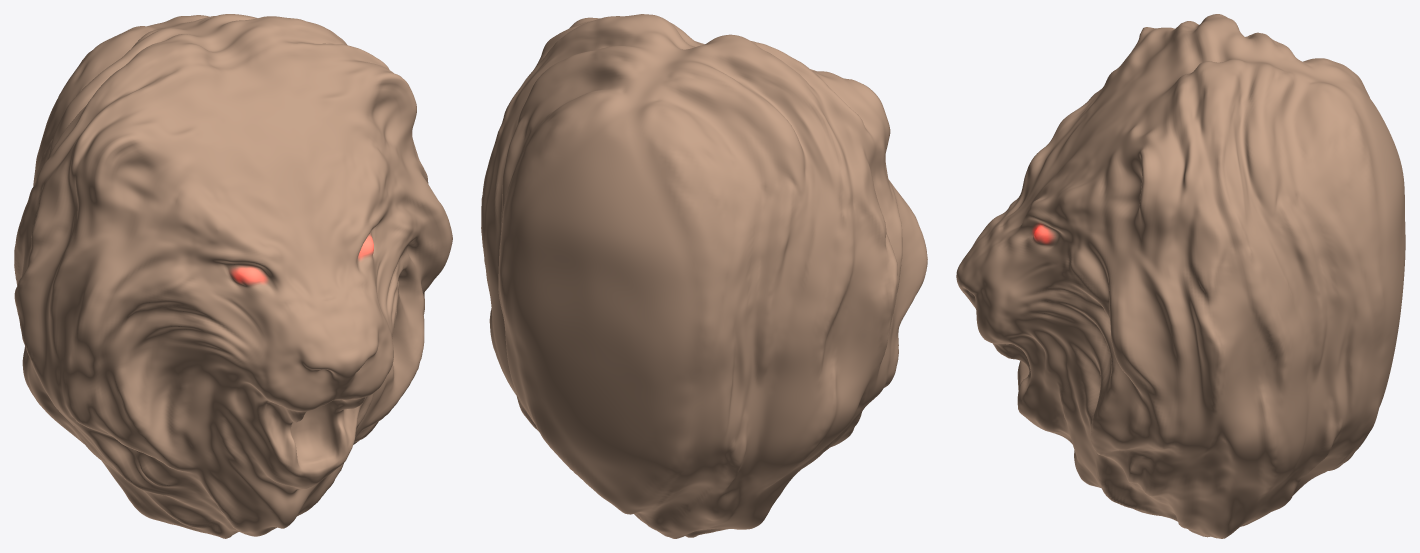
Rendered from lion_fbx.fbx.
3 renders of one model, left to right at view 1: azimuth 30°, elevation 25°; view 2: azimuth 150°, elevation 25°; view 3: azimuth 270°, elevation 25°, orthographic. The views are drawn at different scales.
Visible parts, largest first — view 1: sphere; view 2: sphere; view 3: sphere.
Part boxes in pixels (x1,y1,x2,y2): sphere: [14, 14, 452, 538]; sphere: [481, 14, 927, 538]; sphere: [956, 14, 1405, 538].
Size of the model in its own units: 244 by 289 by 239.
